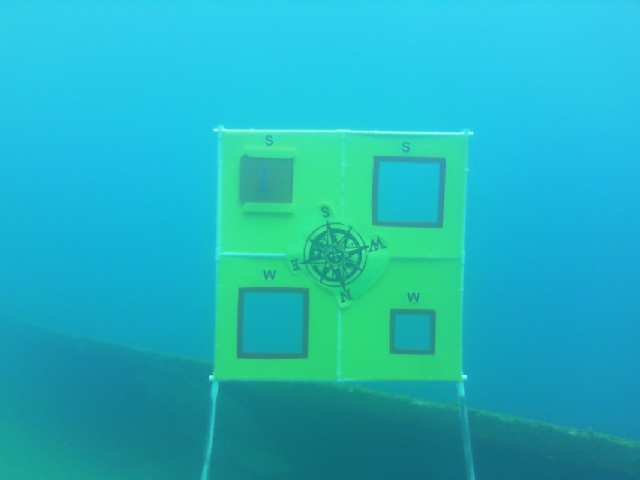torpedo_cover: (239, 154, 298, 208)
torpedo_hole: (367, 153, 447, 228), (233, 288, 315, 357), (239, 156, 305, 213), (388, 305, 440, 354)
torpedo_target: (202, 121, 472, 382)
